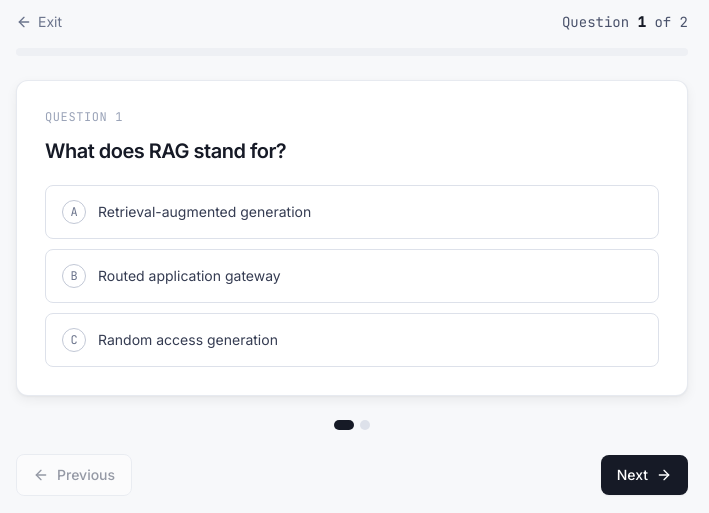
it: QuizResultPage › shows the server score and per-question correctness without computing them
Later steps or results of the test are not shown.
Expected: the heading "What does RAG stand for?" is shown, top-left (45, 139), bottom-right (286, 163)
What coordinates should you click on to do the following:
click the button "A Retrieval-augmented generation"
I would click on:
 (205, 212)
Its box is top-left (45, 185), bottom-right (659, 239).
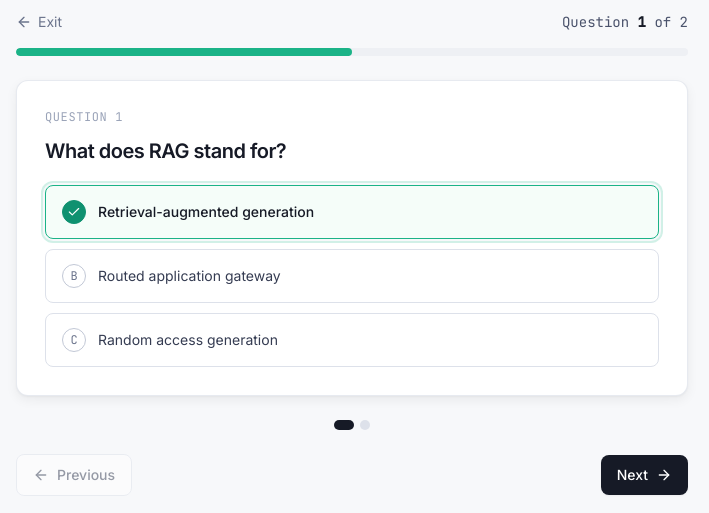
What coordinates should you click on to do the following:
click the button "Next"
I would click on:
 (644, 475)
Its box is top-left (601, 455), bottom-right (688, 495).
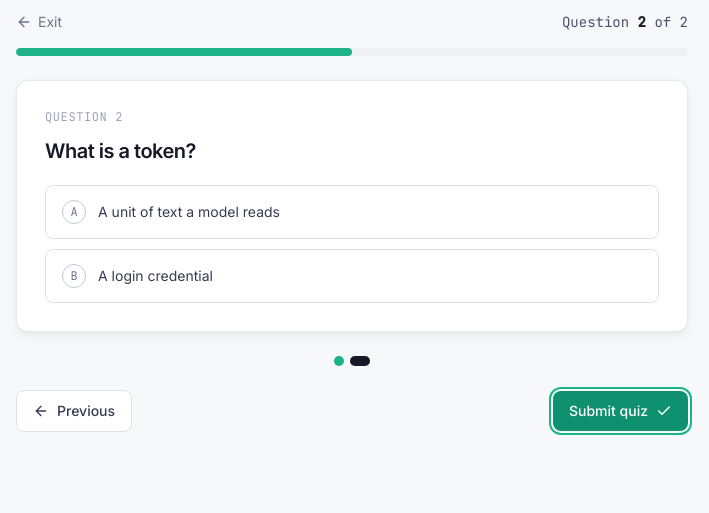
Expected: the heading "What is a token?" is shown, top-left (45, 139), bottom-right (196, 163)
